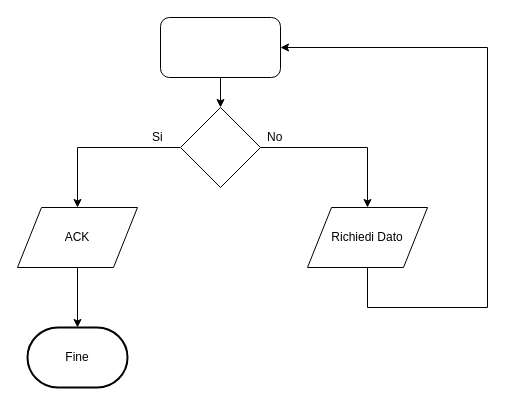
This 513x406 diagram has some shape labels left out. Here are the shapes that lost their labels. From the top down, the centre of each, then its label:
point 220,47: Rimani in ascolto
point 220,147: Dato OK?
